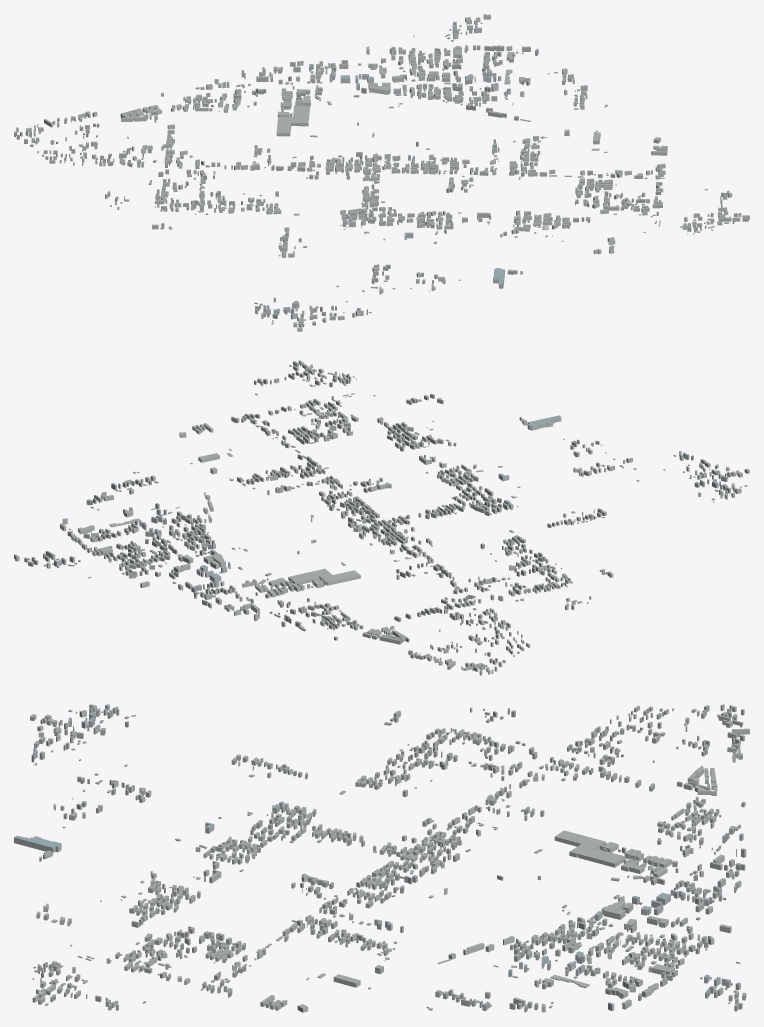
File: far.glb
3 renders of one model, top to bottom at view 1: azimuth 30°, elevation 25°; view 2: azimuth 150°, elevation 25°; view 3: azimuth 270°, elevation 25°, orthographic. The views are drawn at different scales.
Size of the model in its own units: 2107 by 24.6 by 2158.
